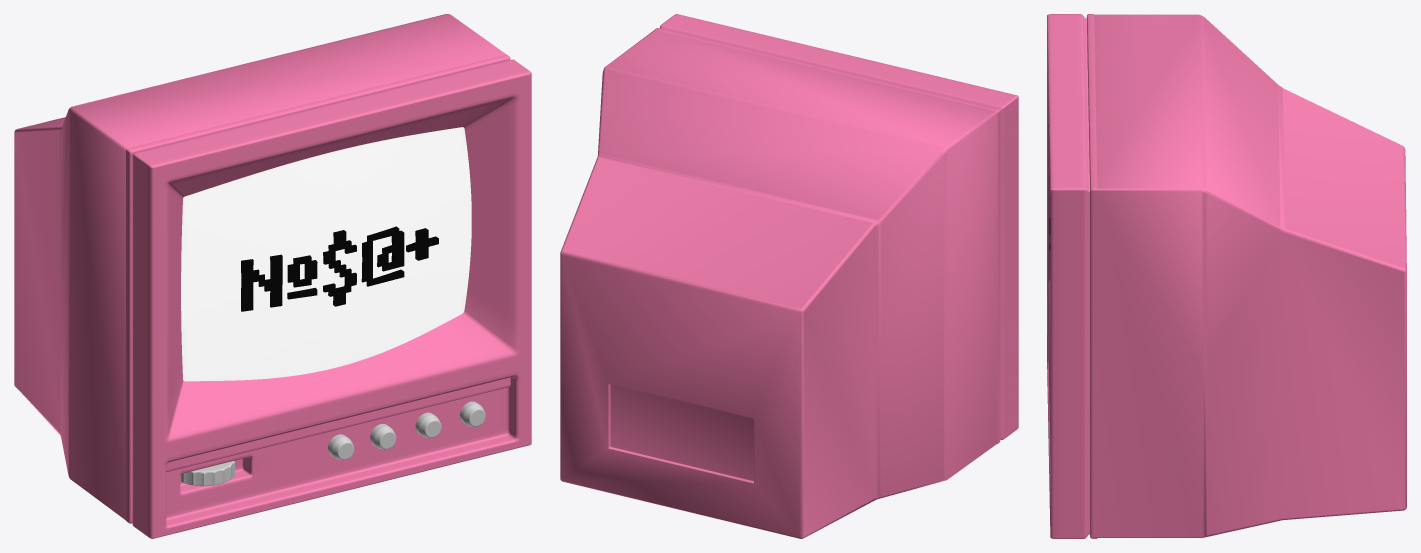
3 views of the same model, side by side, from view 1: azimuth 30°, elevation 25°; view 2: azimuth 150°, elevation 25°; view 3: azimuth 270°, elevation 25° (orthographic). The views are drawn at different scales.
Visible parts, largest first — view 1: Curve.003; view 2: Curve.003; view 3: Curve.003.
Boxes of the visible parts, <box> form: Curve.003: <box>14,14,531,538</box>; Curve.003: <box>560,14,1018,538</box>; Curve.003: <box>1047,14,1406,538</box>.
Size of the model in its own units: 32.25 by 29.97 by 27.91.
